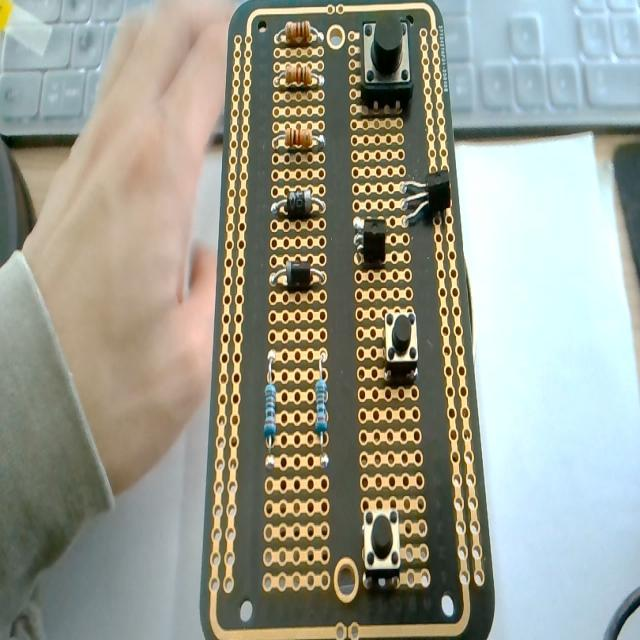diode: (358, 284, 417, 378), (269, 240, 324, 286), (272, 188, 325, 218)
resistor: (314, 352, 330, 466), (272, 62, 326, 92), (274, 123, 326, 154), (264, 350, 278, 459), (270, 208, 323, 234), (277, 21, 321, 45)
switch: (359, 15, 412, 111), (362, 503, 402, 582), (384, 308, 418, 380)
transistor: (400, 170, 452, 226), (351, 214, 387, 266)
